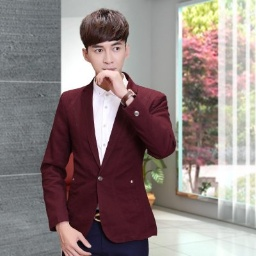face: (79, 7, 132, 79)
